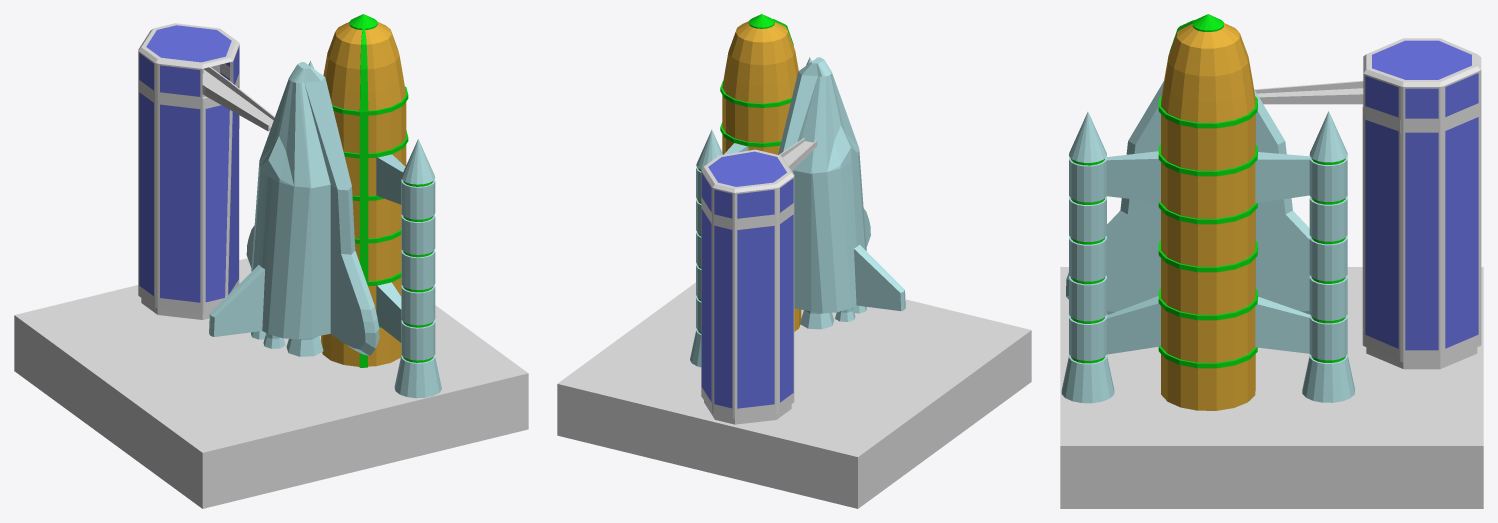
Rendered from launch_pad.fbx.
3 views of the same model, side by side, from view 1: azimuth 30°, elevation 25°; view 2: azimuth 150°, elevation 25°; view 3: azimuth 270°, elevation 25° (orthographic). The views are drawn at different scales.
Parts seen in each view (by area): view 1: Cube.001, spaceship, Cube, tower; view 2: Cube.001, spaceship, Cube, tower; view 3: spaceship, Cube.001, Cube, tower.
Part boxes in pixels (<box>): Cube.001: <box>14,258,528,508</box>; spaceship: <box>209,14,441,398</box>; Cube: <box>138,23,239,313</box>; tower: <box>141,67,274,319</box>; Cube.001: <box>557,282,1031,508</box>; spaceship: <box>690,14,905,367</box>; Cube: <box>701,149,794,418</box>; tower: <box>704,138,817,424</box>; spaceship: <box>1061,14,1354,410</box>; Cube.001: <box>1060,267,1483,508</box>; Cube: <box>1362,38,1481,362</box>; tower: <box>1254,80,1477,369</box>.
Size of the model in its own units: 11437 by 13125 by 11437.
